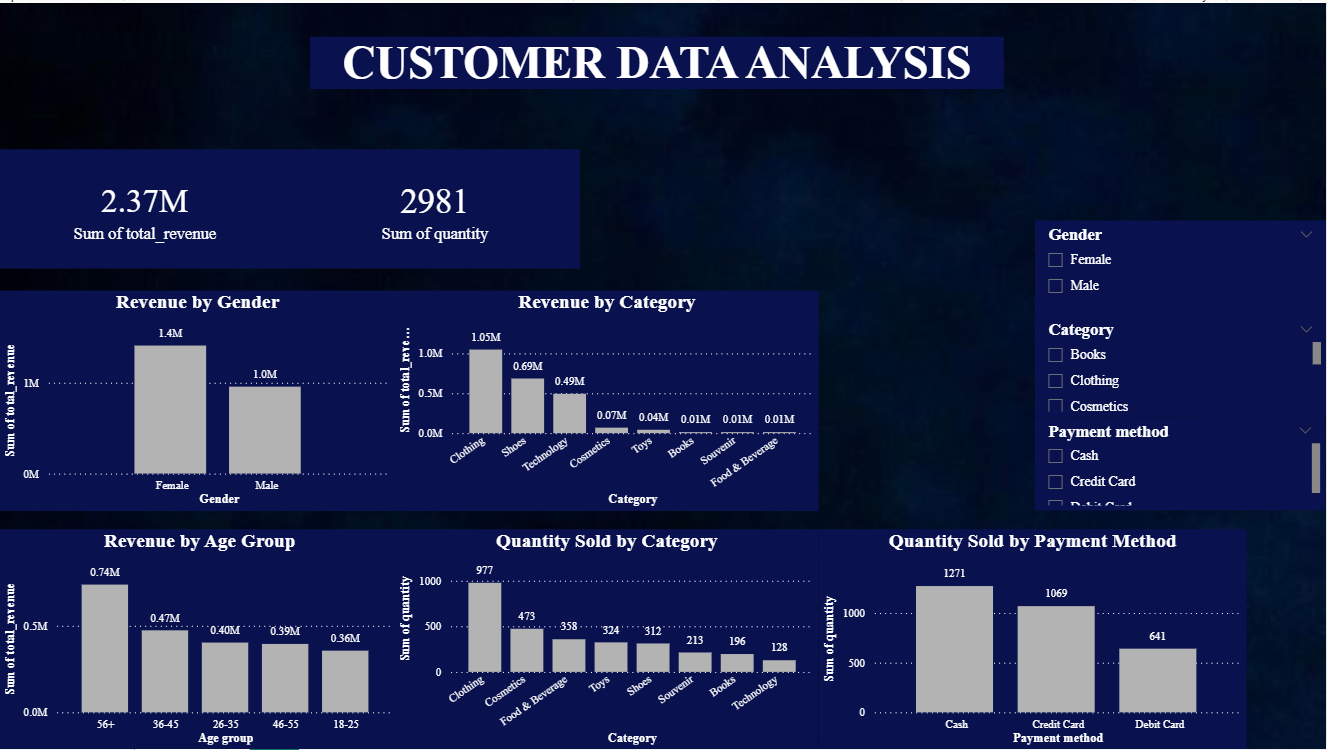

The dashboard page shown, as its layout file describes it:
{"tool":"powerbi","page":{"name":"Overview","canvas":[1280,720],"ordinal":0},"visuals":[{"type":"card","fields":{"Values":["Sum(customer_data (1).total_revenue)"]},"box":[0,141.3,279.9,115.3],"z":0},{"type":"card","fields":{"Values":["Sum(customer_data (1).quantity)"]},"box":[279.9,141.3,279.9,115.3],"z":1000},{"type":"clusteredColumnChart","title":"Revenue by Gender","fields":{"Category":["customer_data (1).gender"],"Y":["Sum(customer_data (1).total_revenue)"]},"box":[0,277.2,381.5,212.7],"z":2000},{"type":"clusteredColumnChart","title":"Revenue by Category","fields":{"Category":["customer_data (1).category"],"Y":["Sum(customer_data (1).total_revenue)"]},"box":[381.5,277.2,408.9,212.7],"z":3000},{"type":"clusteredColumnChart","title":"Revenue by Age Group","fields":{"Category":["customer_data (1).age_group"],"Y":["Sum(customer_data (1).total_revenue)"]},"box":[0,507.7,385.6,212.7],"z":4000},{"type":"slicer","fields":{"Values":["customer_data (1).gender"]},"box":[999,209.9,281.3,91.9],"z":5000},{"type":"slicer","fields":{"Values":["customer_data (1).category"]},"box":[999,301.9,281.3,97.4],"z":6000},{"type":"slicer","fields":{"Values":["customer_data (1).payment_method"]},"box":[999,399.3,279.9,90.6],"z":7000},{"type":"clusteredColumnChart","title":"Quantity Sold by Category","fields":{"Category":["customer_data (1).category"],"Y":["Sum(customer_data (1).quantity)"]},"box":[381.5,507.7,408.9,212.7],"z":8000},{"type":"clusteredColumnChart","title":"Quantity Sold by Payment Method","fields":{"Category":["customer_data (1).payment_method"],"Y":["Sum(customer_data (1).quantity)"]},"box":[790.4,507.7,413,212.7],"z":9000},{"type":"textbox","title":"CUSTOMER DATA ANALYSIS","box":[299.1,32.9,669.6,50.8],"z":10000}]}

Visuals, with their boxes in screenshot pixels (x1, y1, x2, y2), scaled from the page's 1280x720 canvas onto the 1327x750 screenshot:
card - Sum(customer_data (1).total_revenue): {"x1": 0, "y1": 147, "x2": 290, "y2": 267}
card - Sum(customer_data (1).quantity): {"x1": 290, "y1": 147, "x2": 580, "y2": 267}
"Revenue by Gender" clusteredColumnChart: {"x1": 0, "y1": 289, "x2": 396, "y2": 510}
"Revenue by Category" clusteredColumnChart: {"x1": 396, "y1": 289, "x2": 819, "y2": 510}
"Revenue by Age Group" clusteredColumnChart: {"x1": 0, "y1": 529, "x2": 400, "y2": 749}
slicer - customer_data (1).gender: {"x1": 1036, "y1": 219, "x2": 1326, "y2": 314}
slicer - customer_data (1).category: {"x1": 1036, "y1": 314, "x2": 1326, "y2": 416}
slicer - customer_data (1).payment_method: {"x1": 1036, "y1": 416, "x2": 1326, "y2": 510}
"Quantity Sold by Category" clusteredColumnChart: {"x1": 396, "y1": 529, "x2": 819, "y2": 749}
"Quantity Sold by Payment Method" clusteredColumnChart: {"x1": 819, "y1": 529, "x2": 1248, "y2": 749}
"CUSTOMER DATA ANALYSIS" textbox: {"x1": 310, "y1": 34, "x2": 1004, "y2": 87}
